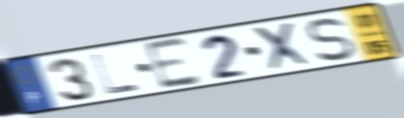2: (197, 30, 253, 84)
3: (46, 56, 96, 103)
E: (140, 35, 204, 92)
L: (88, 52, 142, 97)
S: (305, 15, 357, 63)
X: (249, 20, 317, 73)
